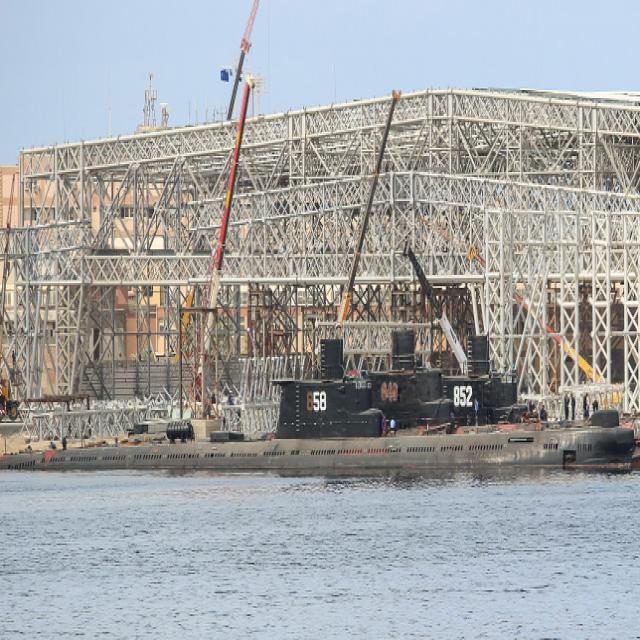submarine: (1, 371, 634, 477), (369, 371, 640, 474), (447, 373, 640, 472)
